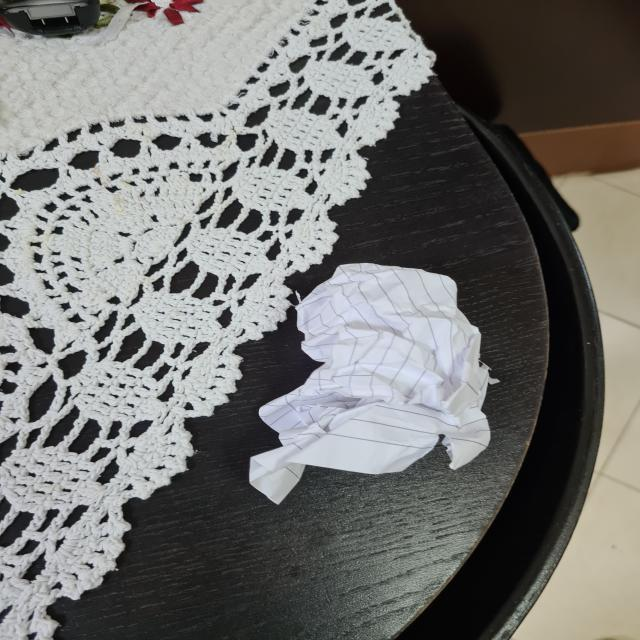Paper: (251, 259, 499, 503)
